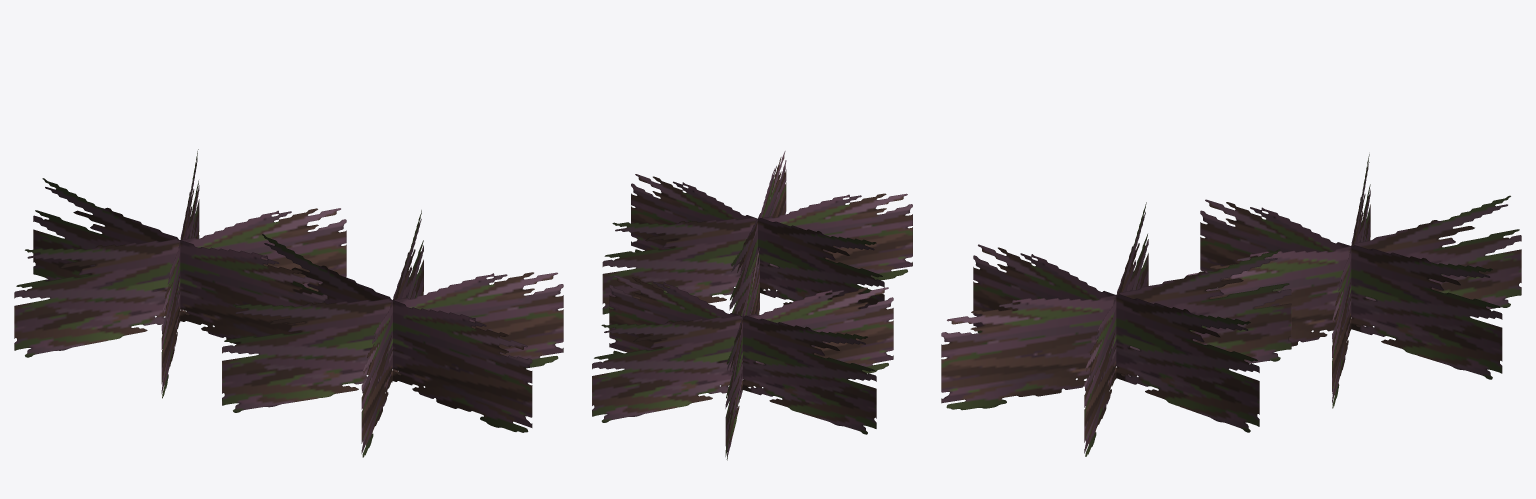
File: tpl_bog_heather.glb
The picture shows the model from 3 angles, left to right: view 1: azimuth 30°, elevation 25°; view 2: azimuth 150°, elevation 25°; view 3: azimuth 270°, elevation 25°; orthographic projection. The views are drawn at different scales.
Parts seen in each view (by area): view 1: tpl_bog_heather; view 2: tpl_bog_heather; view 3: tpl_bog_heather.
Part boxes in pixels (x1,y1,x2,y2): tpl_bog_heather: [14, 149, 563, 457]; tpl_bog_heather: [592, 151, 912, 460]; tpl_bog_heather: [941, 154, 1521, 456].
Size of the model in its own units: 0.9106 by 0.55 by 1.09.
1 material, 1 textured.
